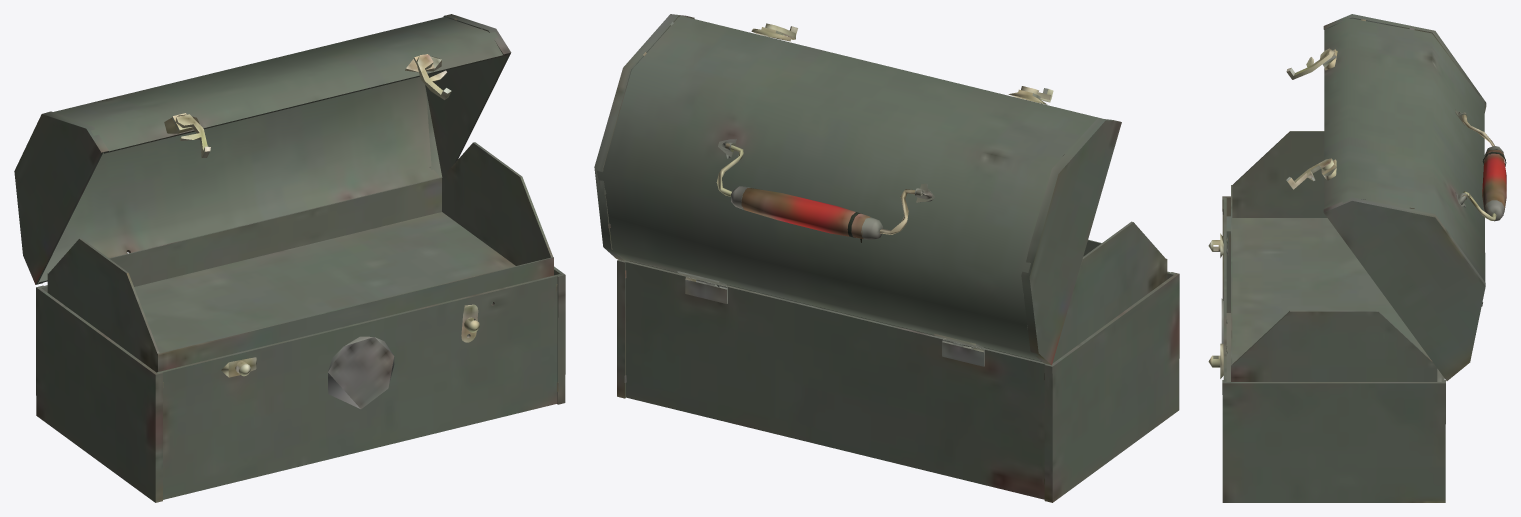
Rendered from ph-metal_toolbox.glb.
3 renders of one model, left to right at view 1: azimuth 30°, elevation 25°; view 2: azimuth 150°, elevation 25°; view 3: azimuth 270°, elevation 25°, orthographic. The views are drawn at different scales.
Parts seen in each view (by area): view 1: Cylinder.015, metal_toolbox, metal_toolbox_tray, metal_toolbox_handle_latch_r, metal_toolbox_handle_latch_l; view 2: Cylinder.015, metal_toolbox, metal_toolbox_tray, metal_toolbox_handle; view 3: Cylinder.015, metal_toolbox_tray, metal_toolbox, metal_toolbox_handle, metal_toolbox_handle_latch_l, metal_toolbox_handle_latch_r.
Boxes of the visible parts, box(x1,y1,x2,y2) form: Cylinder.015: box(14, 14, 511, 284); metal_toolbox: box(36, 266, 565, 502); metal_toolbox_tray: box(47, 142, 553, 372); metal_toolbox_handle_latch_r: box(416, 54, 451, 99); metal_toolbox_handle_latch_l: box(175, 114, 210, 157); Cylinder.015: box(594, 14, 1121, 365); metal_toolbox: box(617, 259, 1179, 502); metal_toolbox_tray: box(629, 221, 1167, 363); metal_toolbox_handle: box(716, 145, 915, 242); Cylinder.015: box(1321, 14, 1486, 380); metal_toolbox_tray: box(1231, 131, 1437, 381); metal_toolbox: box(1208, 196, 1445, 502); metal_toolbox_handle: box(1462, 114, 1506, 221); metal_toolbox_handle_latch_l: box(1286, 48, 1334, 79); metal_toolbox_handle_latch_r: box(1286, 158, 1333, 189).
Bounding box in the file's own units: 0.45 × 0.3425 × 0.3035.
1 material, 1 textured.
